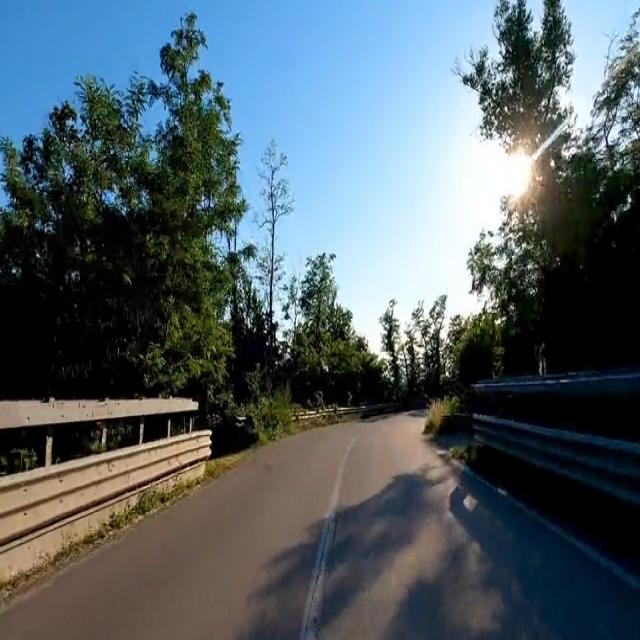lane: (299, 436, 356, 639)
road: (0, 414, 639, 638)
